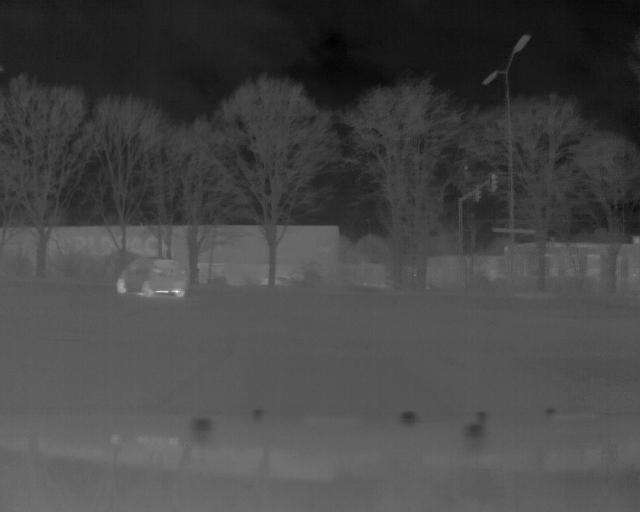car: (114, 252, 190, 298)
